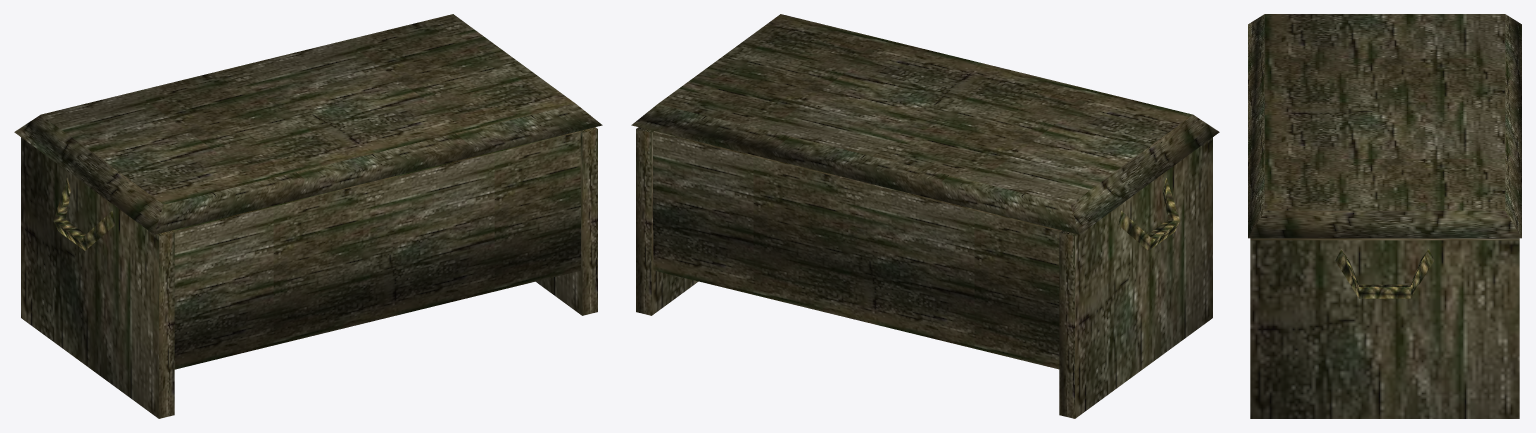
The model's file is DT_CRATE_V2.glb.
The picture shows the model from 3 angles, left to right: view 1: azimuth 30°, elevation 25°; view 2: azimuth 150°, elevation 25°; view 3: azimuth 270°, elevation 25°; orthographic projection. The views are drawn at different scales.
Parts seen in each view (by area): view 1: Mesh; view 2: Mesh; view 3: Mesh.
Part boxes in pixels (<box>): Mesh: <box>14,14,602,418</box>; Mesh: <box>631,14,1219,418</box>; Mesh: <box>1248,14,1521,418</box>.
Size of the model in its own units: 1.3 by 0.5258 by 0.6484.
2 materials, 2 textured.
